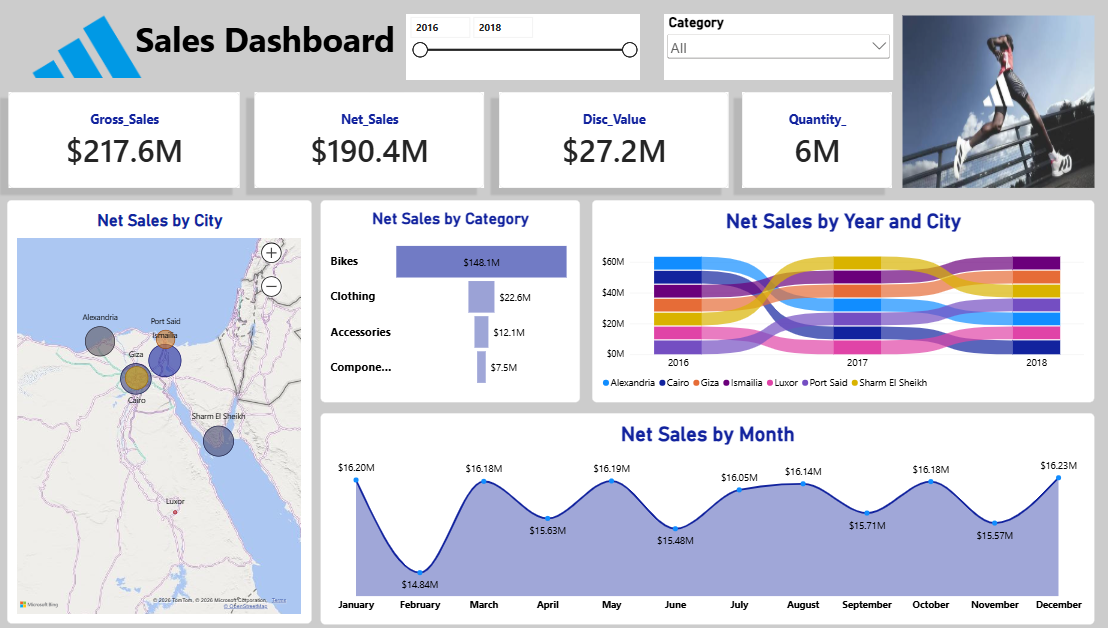

Layout of this report page (visuals, bound fields, positions):
{"tool":"powerbi","page":{"name":"Page 1","canvas":[1920,1080],"ordinal":0},"visuals":[{"type":"cardVisual","fields":{"Data":["SalesT.Gross_Sales"]},"box":[67.5,165,385,160],"z":0},{"type":"cardVisual","fields":{"Data":["SalesT.Quantity_"]},"box":[1290,165,250,160],"z":1000},{"type":"cardVisual","fields":{"Data":["SalesT.Net_Sales"]},"box":[477.5,165,382.5,160],"z":2000},{"type":"cardVisual","fields":{"Data":["SalesT.Disc_Value"]},"box":[885,165,382.5,160],"z":3000},{"type":"lineChart","title":"Net Sales  by Month","fields":{"Category":["SalesT.Date.Variation.Date Hierarchy.Year","SalesT.Date.Variation.Date Hierarchy.Month"],"Y":["SalesT.Net_Sales"]},"box":[587.5,700,1290,352.5],"z":5000},{"type":"funnel","title":"Net Sales by Category","fields":{"Y":["SalesT.Net_Sales"],"Category":["Product.Category"]},"box":[587.5,345,432.5,337.5],"z":6000},{"type":"ribbonChart","title":"Net Sales by Year and City","fields":{"Y":["SalesT.Net_Sales"],"Category":["SalesT.Date.Variation.Date Hierarchy.Year"],"Series":["Location.City"]},"box":[1040,345,837.5,337.5],"z":7000},{"type":"slicer","fields":{"Values":["SalesT.Date.Variation.Date Hierarchy.Year"]},"box":[730.1,35.8,388.9,109.8],"z":8000},{"type":"slicer","fields":{"Values":["Product.Category"]},"box":[1159.6,35.8,381.7,109.8],"z":9000},{"type":"image","box":[1557.5,37.5,320,287.5],"z":10000},{"type":"map","title":"Net Sales  by City","fields":{"Size":["SalesT.Net_Sales"],"Category":["Location.City"]},"box":[64.4,346,508.2,706.2],"z":11000},{"type":"image","box":[107.4,35.8,181.3,109.8],"z":11001},{"type":"textbox","box":[260.1,38.2,470,112.1],"z":11002}]}

Visuals, with their boxes in screenshot pixels (x1, y1, x2, y2), scaled from the page's 1920x1080 canvas onto the 1108x628 screenshot:
cardVisual - SalesT.Gross_Sales: x1=39, y1=96, x2=261, y2=189
cardVisual - SalesT.Quantity_: x1=744, y1=96, x2=889, y2=189
cardVisual - SalesT.Net_Sales: x1=276, y1=96, x2=496, y2=189
cardVisual - SalesT.Disc_Value: x1=511, y1=96, x2=731, y2=189
"Net Sales  by Month" lineChart: x1=339, y1=407, x2=1083, y2=612
"Net Sales by Category" funnel: x1=339, y1=201, x2=589, y2=397
"Net Sales by Year and City" ribbonChart: x1=600, y1=201, x2=1083, y2=397
slicer - SalesT.Date.Variation.Date Hierarchy.Year: x1=421, y1=21, x2=646, y2=85
slicer - Product.Category: x1=669, y1=21, x2=889, y2=85
image: x1=899, y1=22, x2=1083, y2=189
"Net Sales  by City" map: x1=37, y1=201, x2=330, y2=612
image: x1=62, y1=21, x2=167, y2=85
textbox: x1=150, y1=22, x2=421, y2=87
